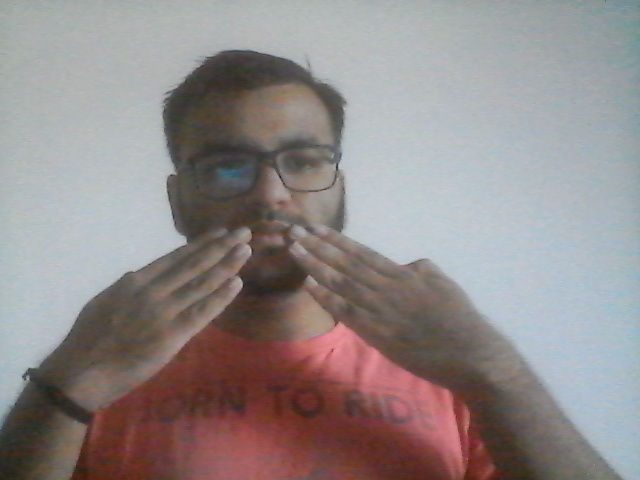Yes: (42, 211, 535, 418)
